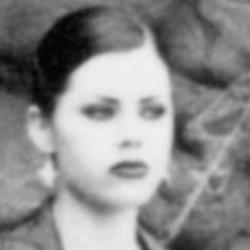face: (6, 3, 207, 221)
